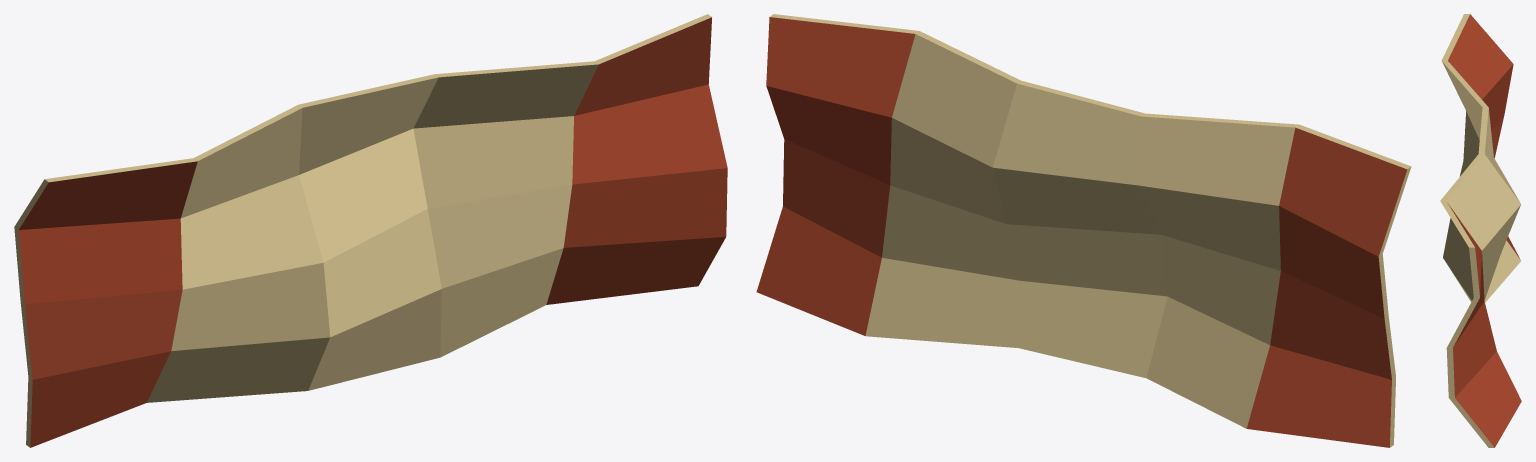
Rendered from open_candy_wrapper.glb.
The picture shows the model from 3 angles, left to right: view 1: azimuth 30°, elevation 25°; view 2: azimuth 150°, elevation 25°; view 3: azimuth 270°, elevation 25°; orthographic projection. The views are drawn at different scales.
Visible parts, largest first — view 1: PropGeometryGeometry; view 2: PropGeometryGeometry; view 3: PropGeometryGeometry.
Boxes of the visible parts, left/top/right/bottom form: PropGeometryGeometry: left=14, top=14, right=727, bottom=447; PropGeometryGeometry: left=756, top=14, right=1411, bottom=447; PropGeometryGeometry: left=1440, top=14, right=1521, bottom=447.
Bounding box in the file's own units: 1.6 × 0.64 × 0.2366.
